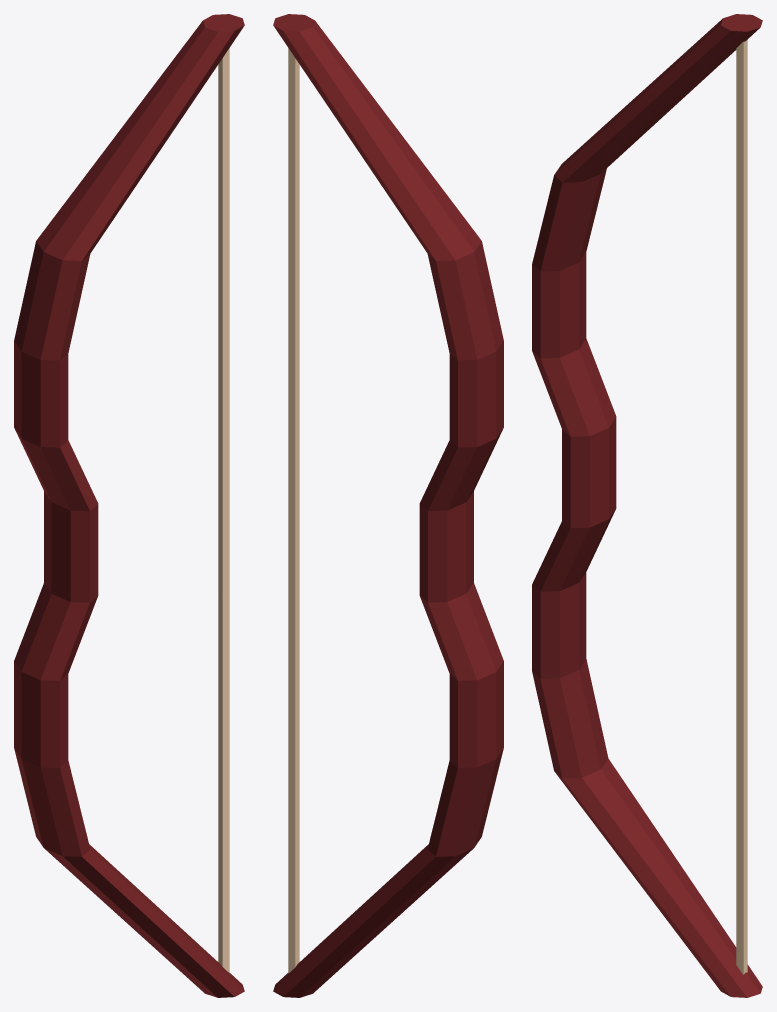
Rendered from bow.obj.
3 views of the same model, side by side, from view 1: azimuth 30°, elevation 25°; view 2: azimuth 150°, elevation 25°; view 3: azimuth 330°, elevation 25° (orthographic).
Visible parts, largest first — view 1: Cylinder, Cube; view 2: Cylinder, Cube; view 3: Cylinder, Cube.
Boxes of the visible parts, x1,y1,x2,y2 form: Cylinder: [14, 14, 244, 997]; Cube: [218, 48, 229, 972]; Cylinder: [273, 14, 503, 997]; Cube: [288, 48, 299, 973]; Cylinder: [532, 14, 762, 997]; Cube: [736, 40, 747, 974].
Size of the model in its own units: 6.8 by 28.4 by 2.
